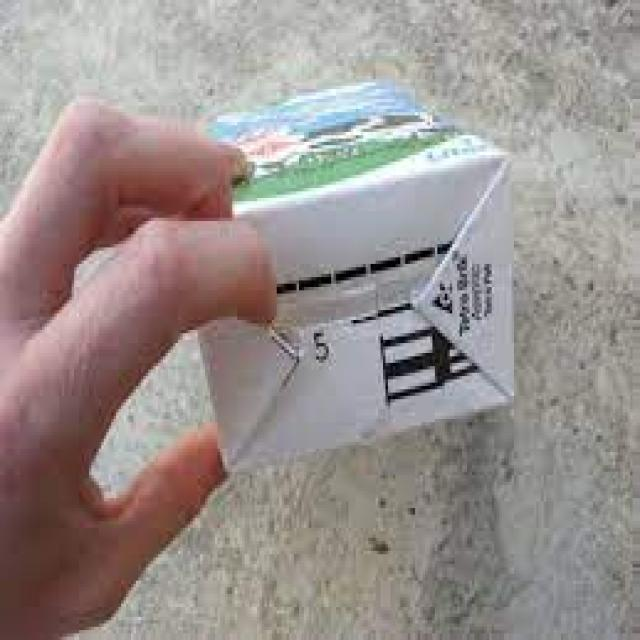cardboard: (206, 86, 522, 475)
